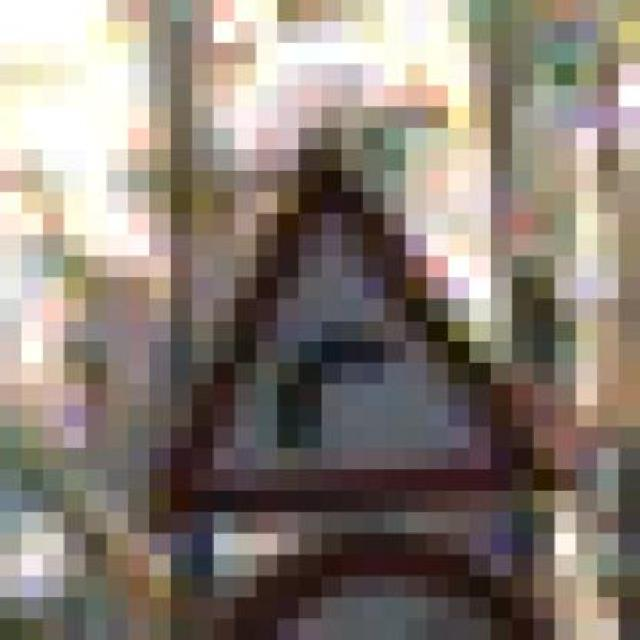Dangerous Rright Curve Ahead: (107, 128, 576, 512)
